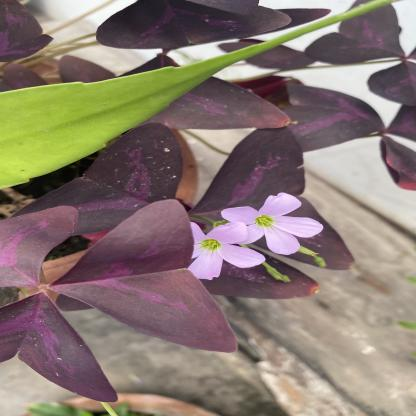Kupu-Kupu: (1, 219, 244, 397), (308, 13, 416, 81)
